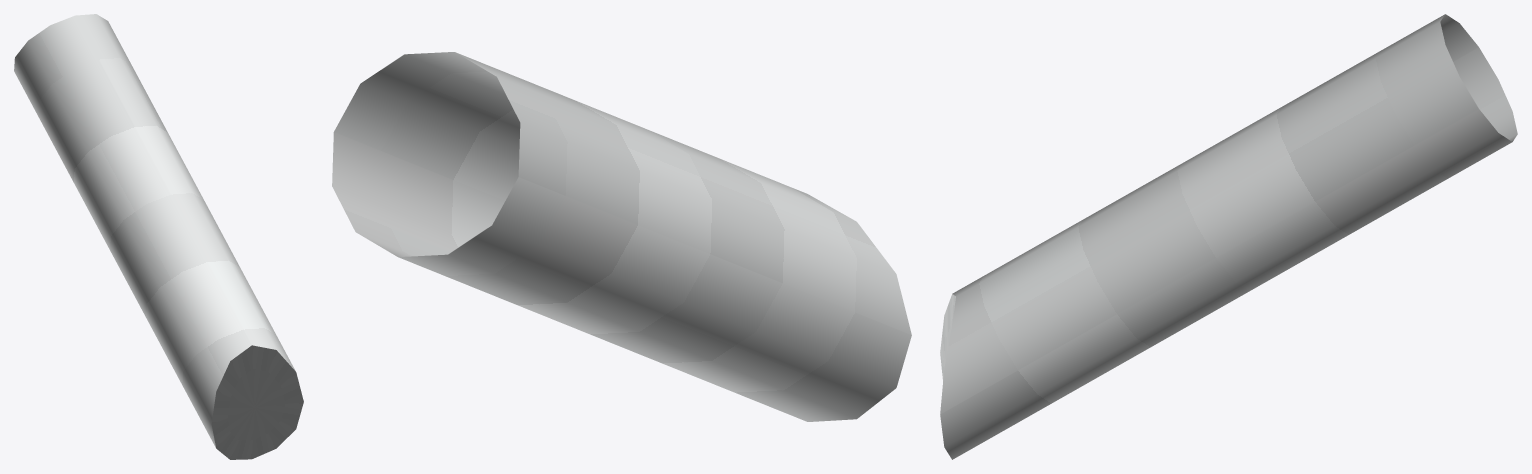
File: luminairearm_truss12ftdouble_c1_pedestal.obj
3 renders of one model, left to right at view 1: azimuth 30°, elevation 25°; view 2: azimuth 150°, elevation 25°; view 3: azimuth 270°, elevation 25°, orthographic. The views are drawn at different scales.
Parts seen in each view (by area): view 1: luminairearm_truss12ftdouble_c1_pedestal; view 2: luminairearm_truss12ftdouble_c1_pedestal; view 3: luminairearm_truss12ftdouble_c1_pedestal.
Boxes of the visible parts, bbox=[...] form: luminairearm_truss12ftdouble_c1_pedestal: bbox=[14, 14, 303, 459]; luminairearm_truss12ftdouble_c1_pedestal: bbox=[332, 52, 911, 421]; luminairearm_truss12ftdouble_c1_pedestal: bbox=[940, 14, 1517, 459].
Bounding box in the file's own units: 0.1562 × 0.5083 × 0.6176.
